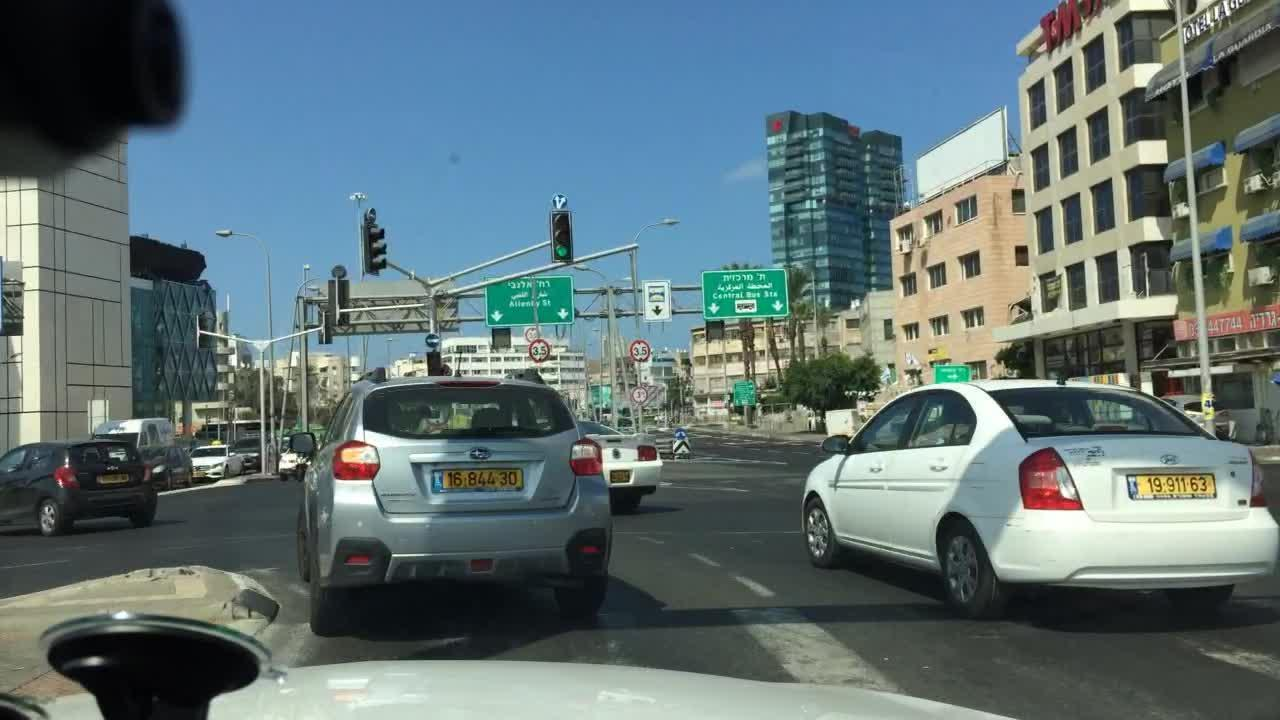Hyundai: (1154, 449, 1184, 468)
subaru: (462, 441, 496, 464)
